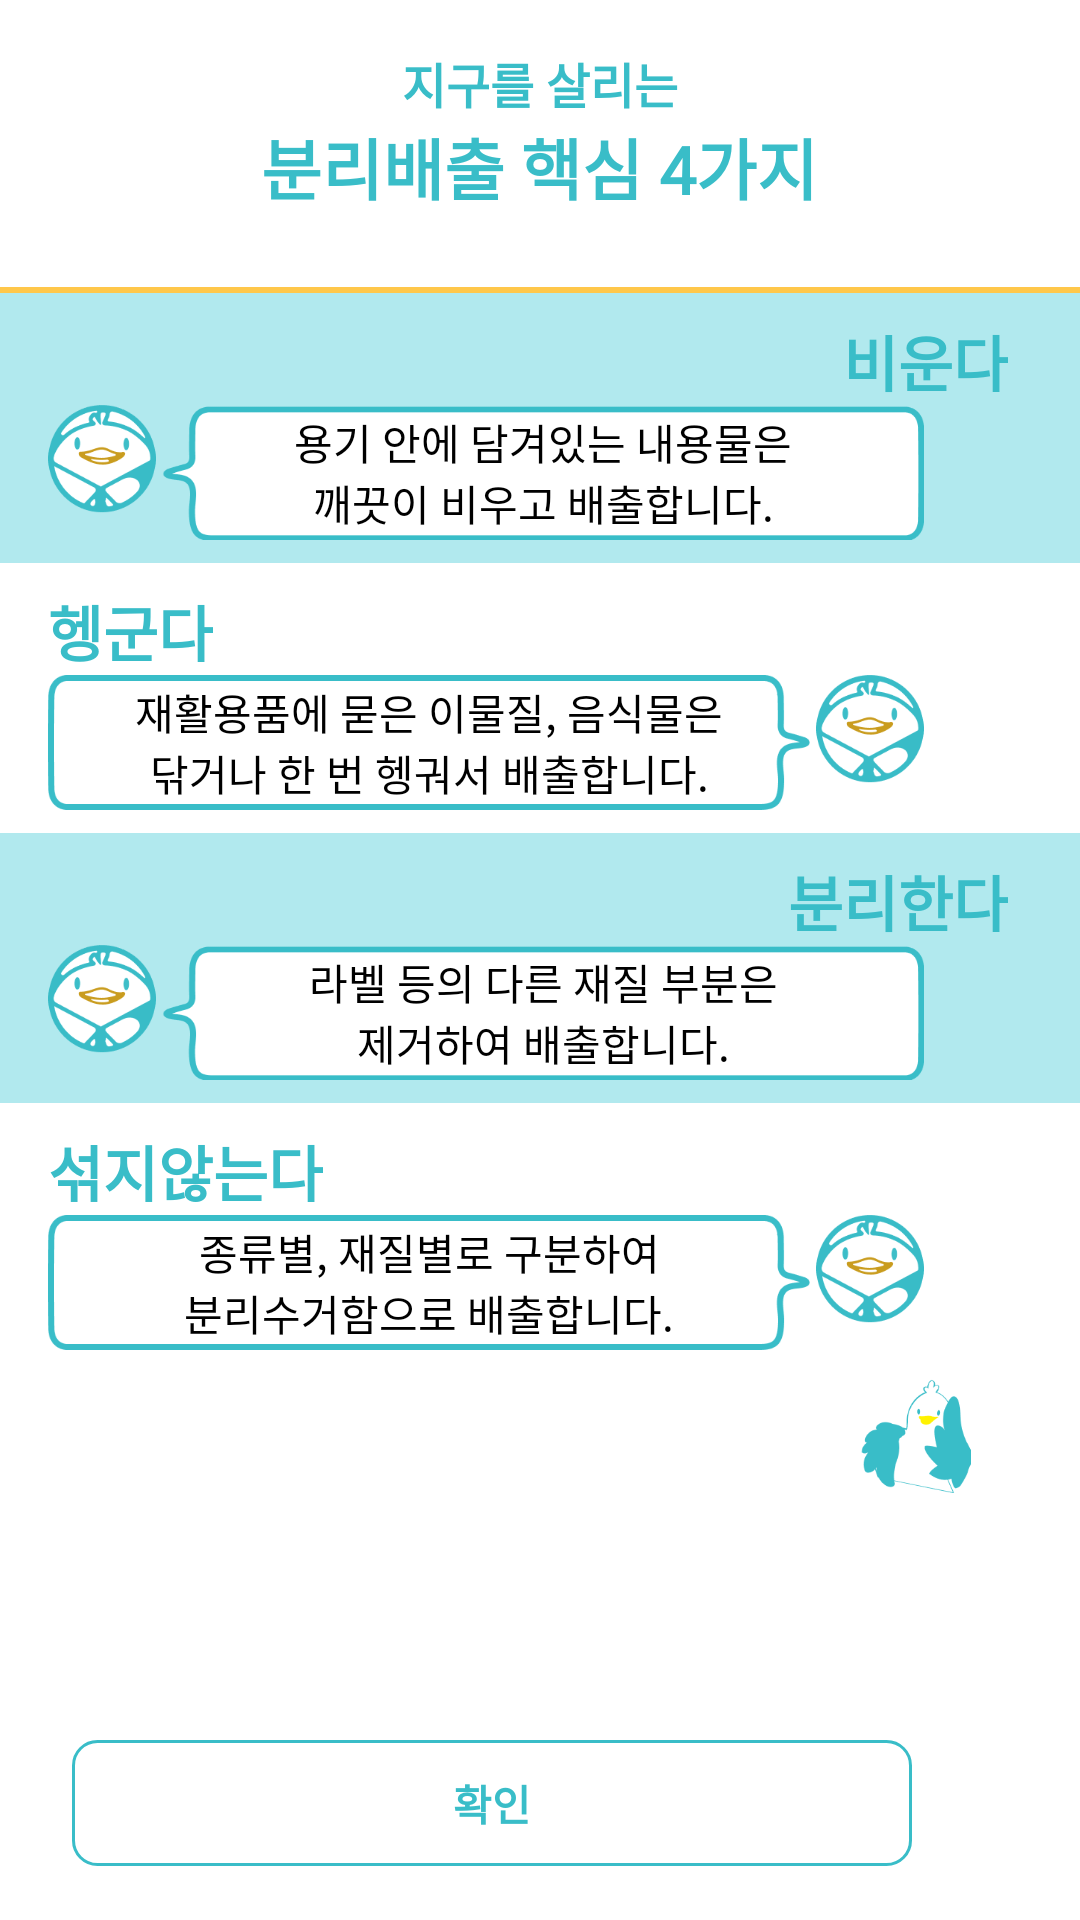

Icon click points for this 1080x1920 phone screenshot, format point (x, y):
popup ecoduck: point (916, 1436)
